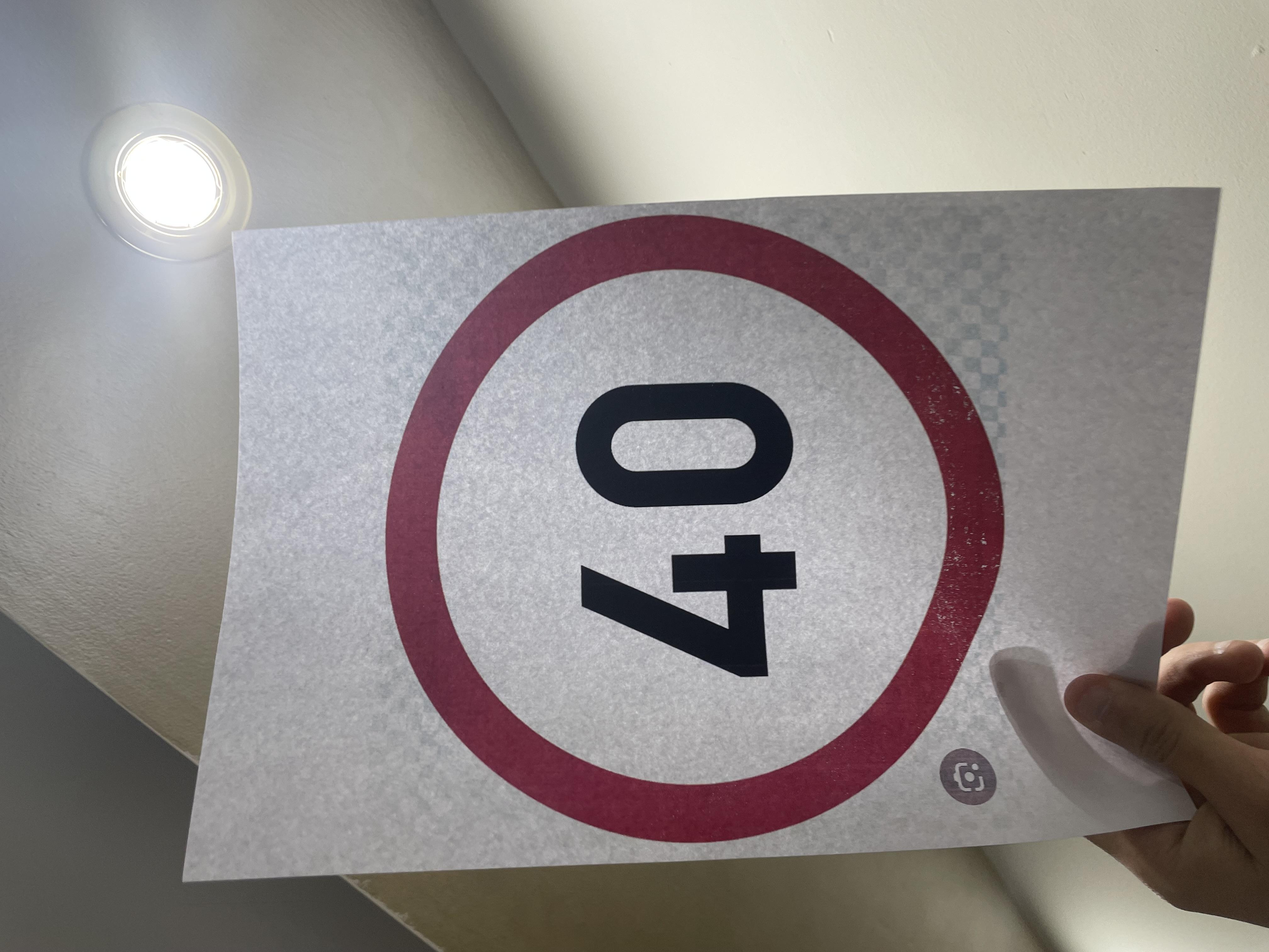40-Speed: (160, 289, 976, 747)
